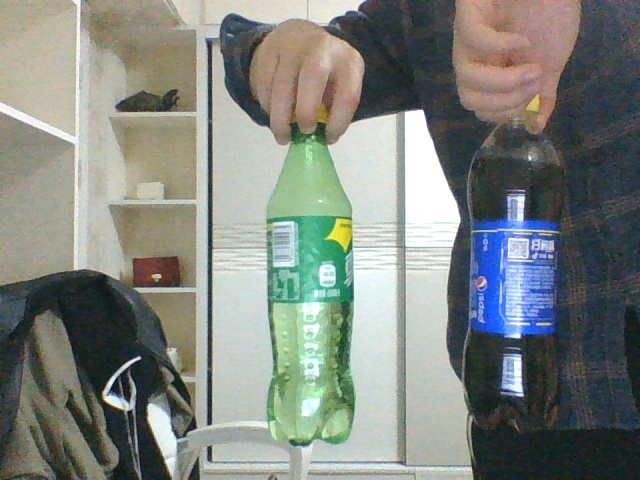Cola: (461, 99, 567, 430)
Sprite: (265, 102, 356, 446)
